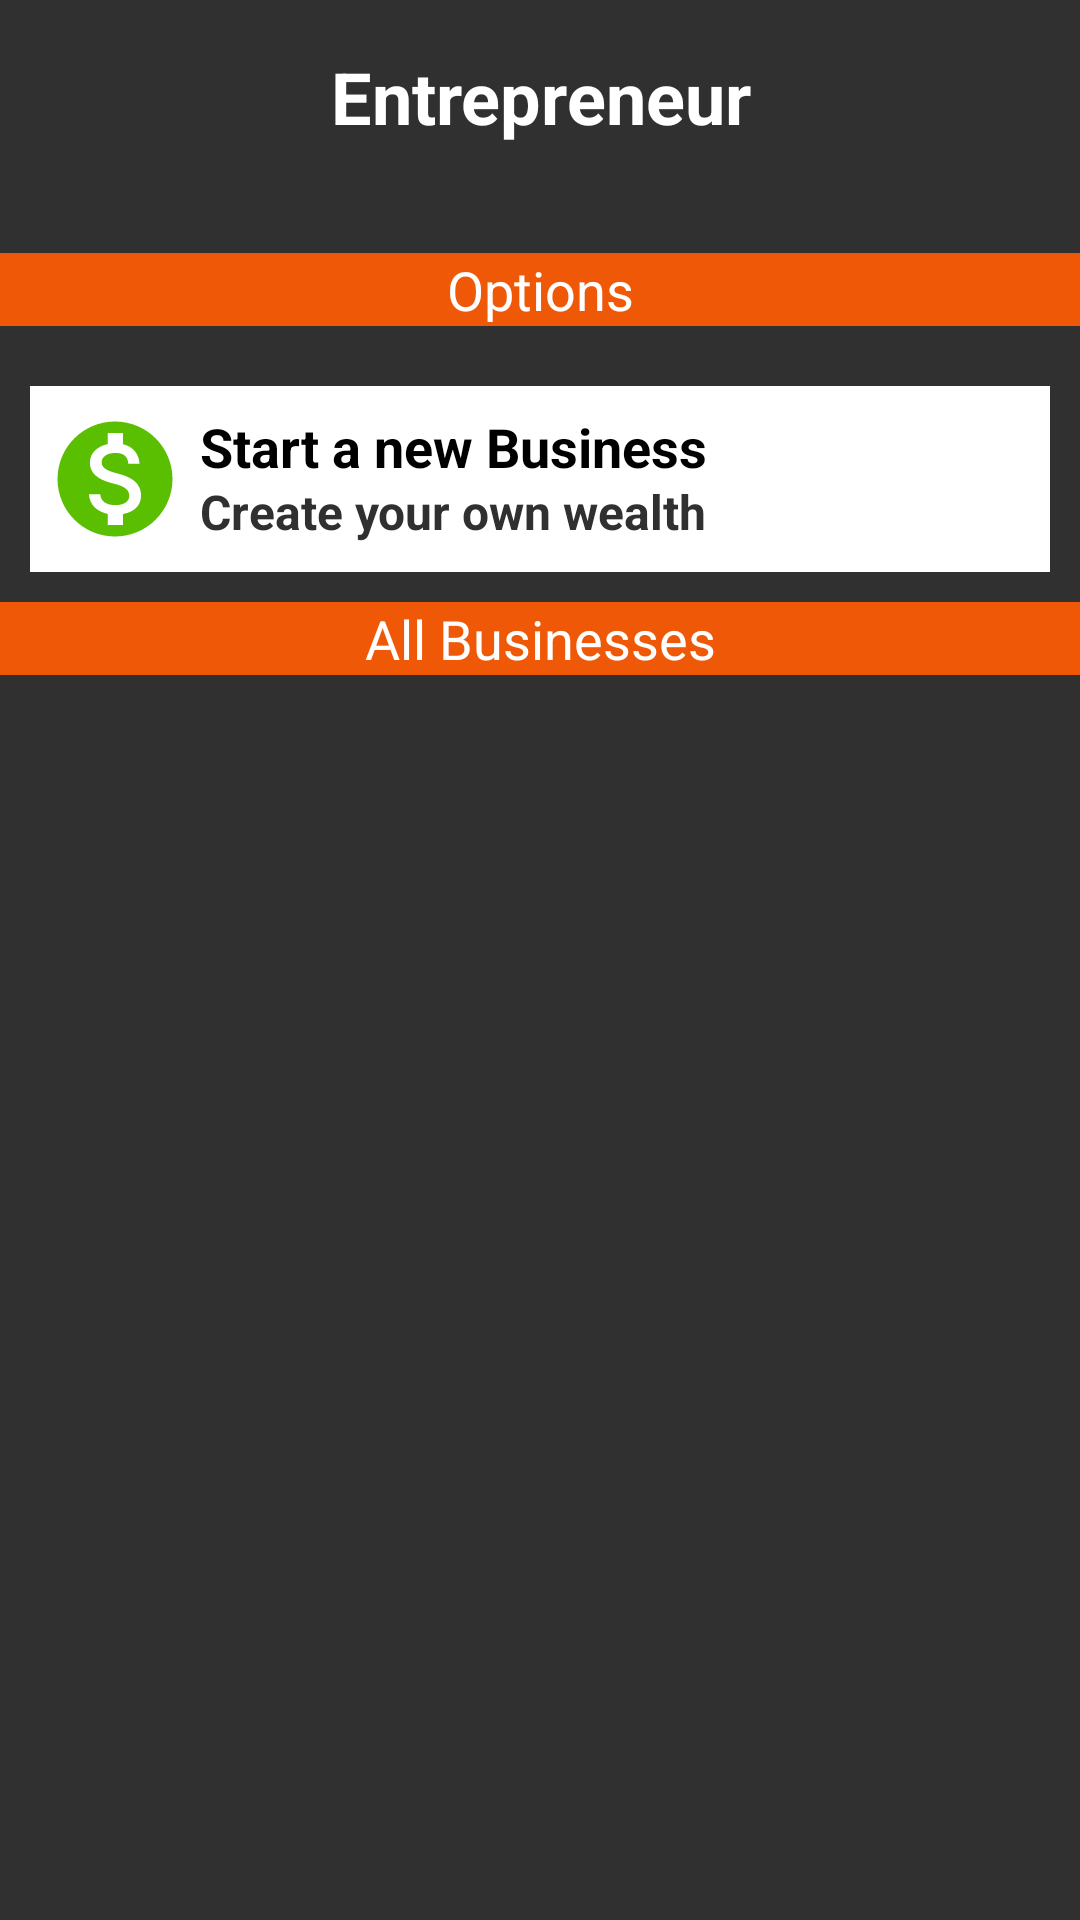

Where icons sit on this 1080w x 1920h app screen, as (x1, y1, x2, y2):
money: (57, 421, 173, 537)
